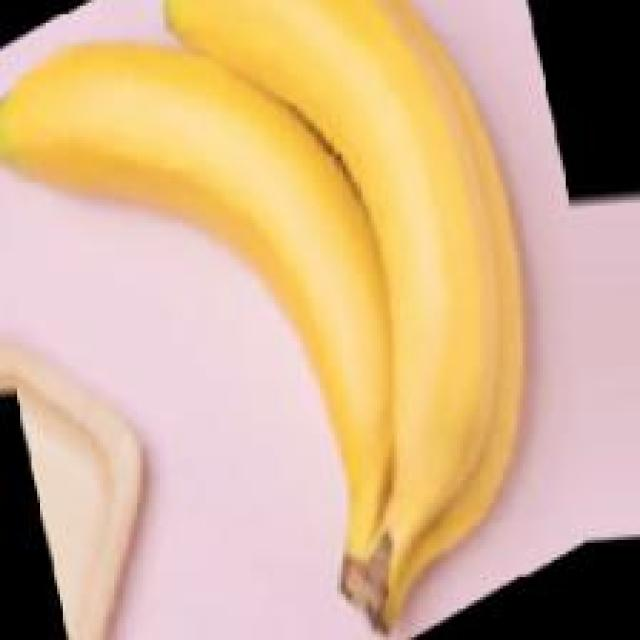banana: (8, 3, 579, 614)
